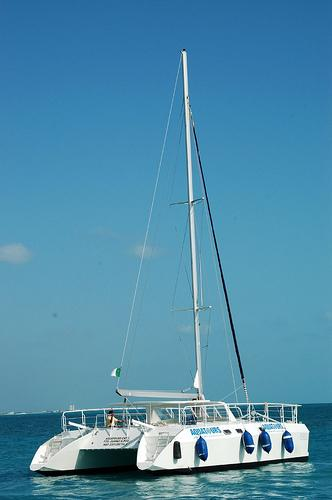Ship: (30, 52, 313, 473)
